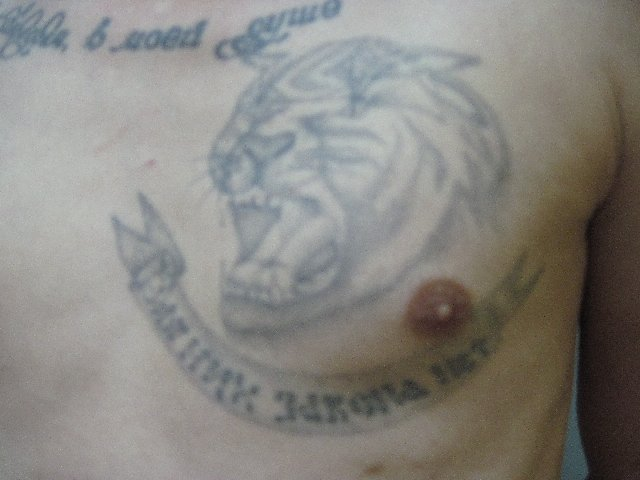tatu3_bukva: (266, 339, 504, 429), (4, 2, 355, 49)
tatu5_tigr: (206, 40, 519, 299)
